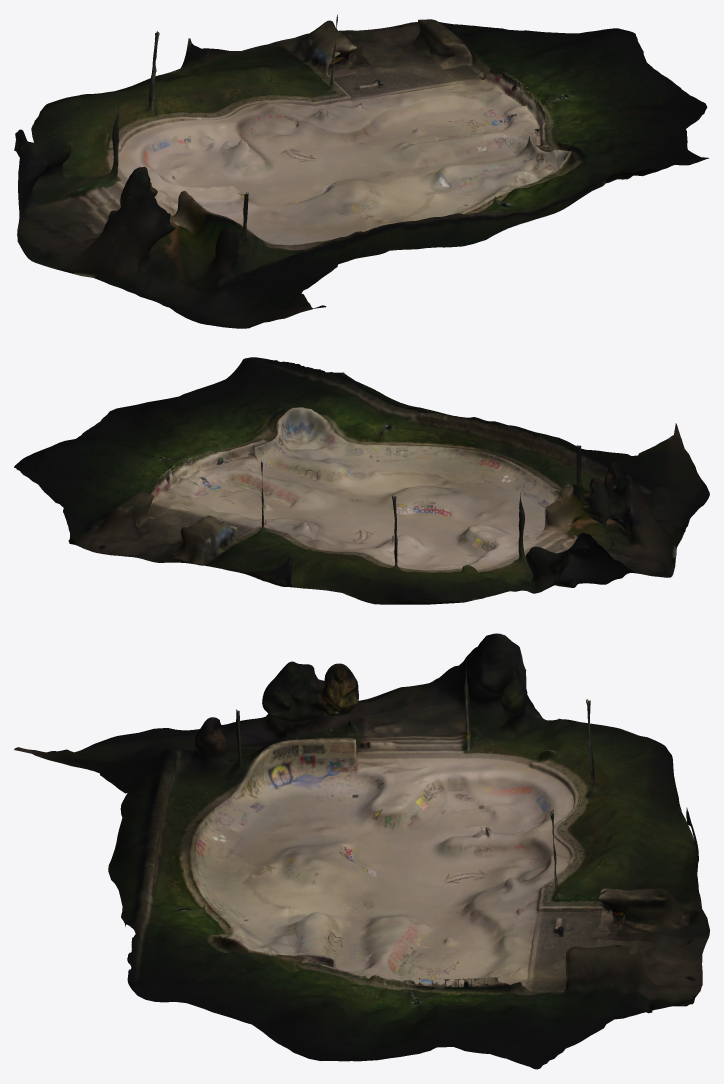
The model's file is skatepark_multi.glb.
The picture shows the model from 3 angles, top to bottom: view 1: azimuth 30°, elevation 25°; view 2: azimuth 150°, elevation 25°; view 3: azimuth 270°, elevation 25°; orthographic projection. The views are drawn at different scales.
Visible parts, largest first — view 1: Mesh; view 2: Mesh; view 3: Mesh.
Part boxes in pixels (<box>): Mesh: <box>14,14,709,328</box>; Mesh: <box>14,357,709,604</box>; Mesh: <box>14,633,709,1069</box>.
Bounding box in the file's own units: 3.24 × 0.4975 × 2.47.
Materials: 1 (1 with a texture image).
